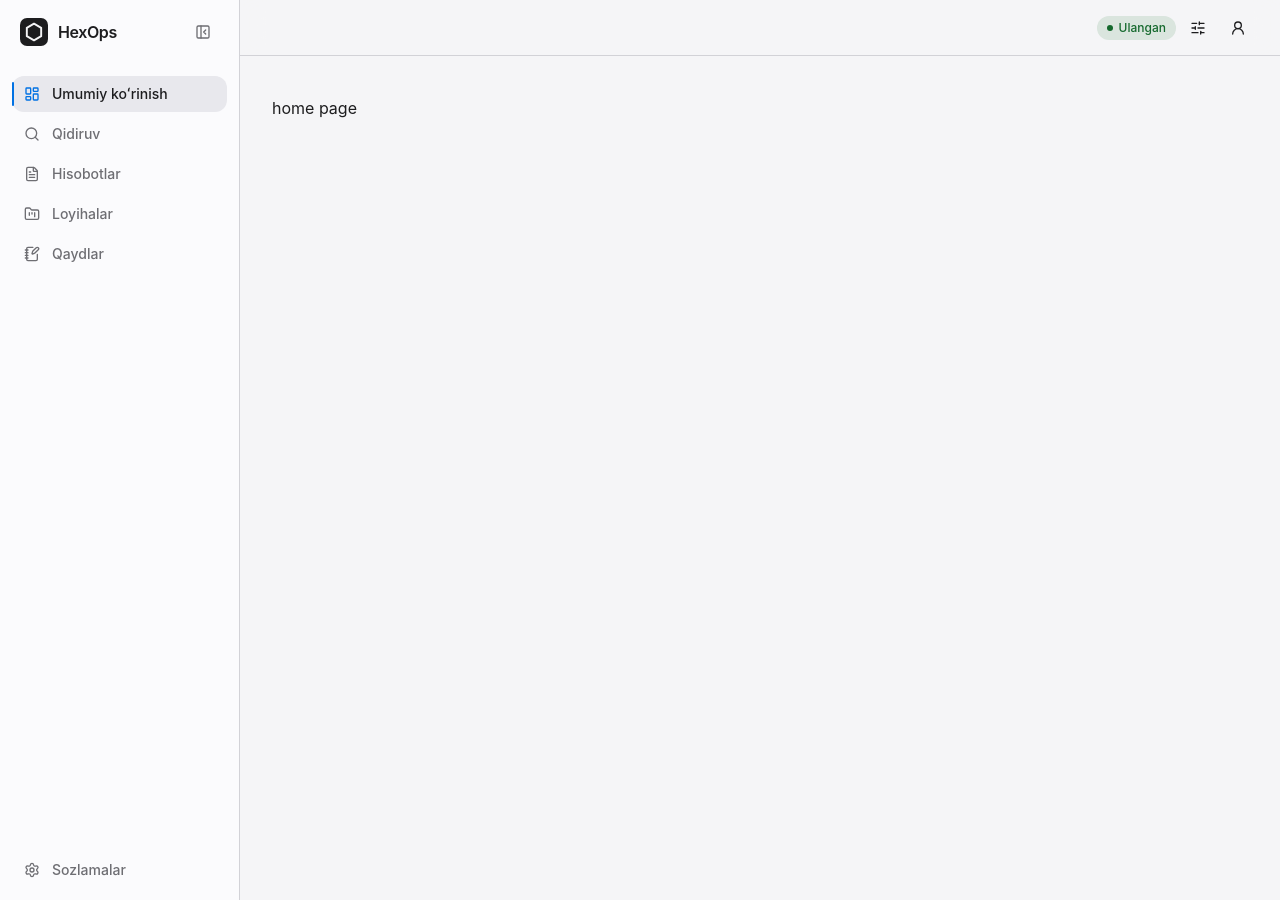
collapsible desktop sidebar › is labelled in uz
Click the button named "Yon panelni yigʻish".
click(203, 32)  # box [187,16,219,48]
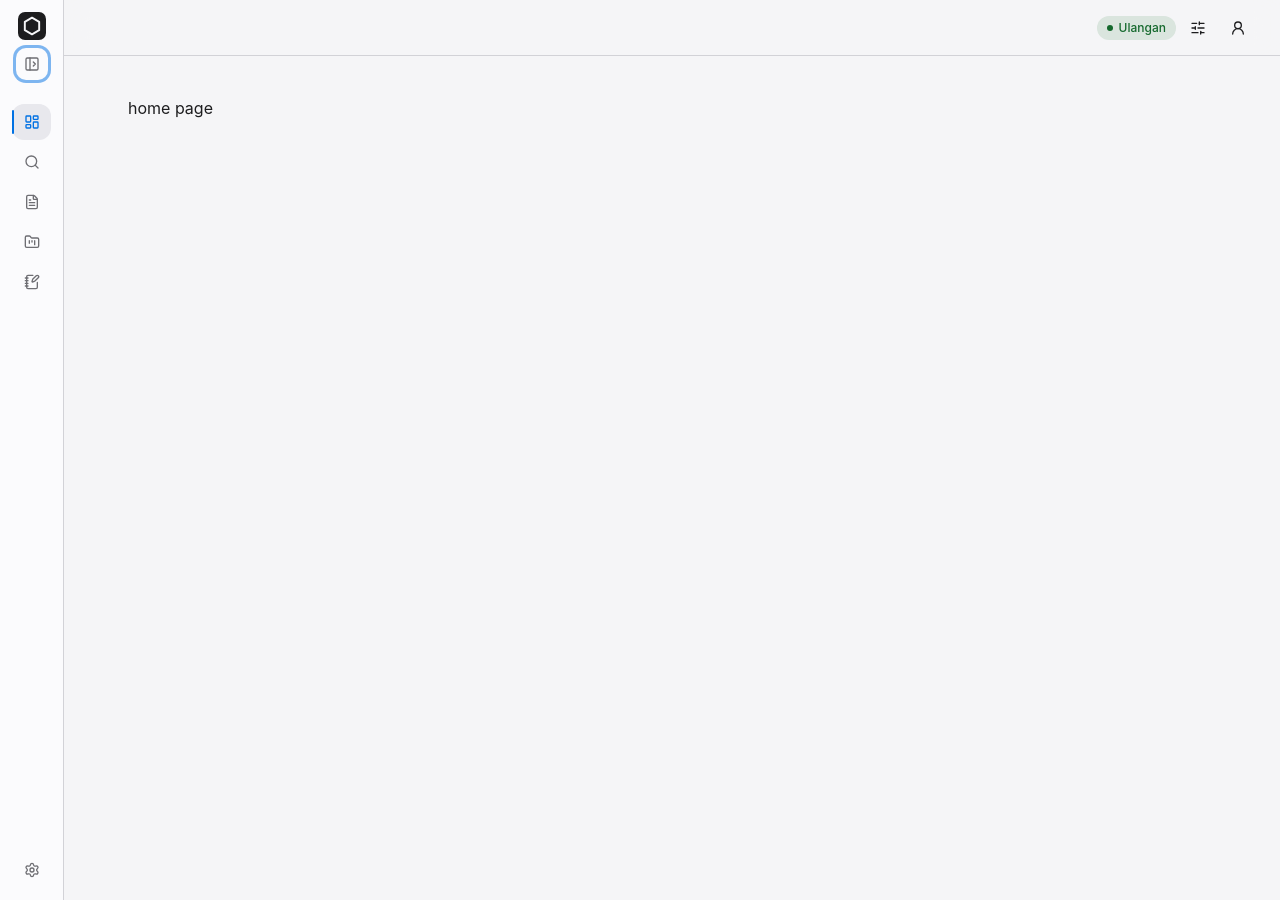
Result: the button named "Yon panelni yoyish" is shown at [16,48,48,80]
